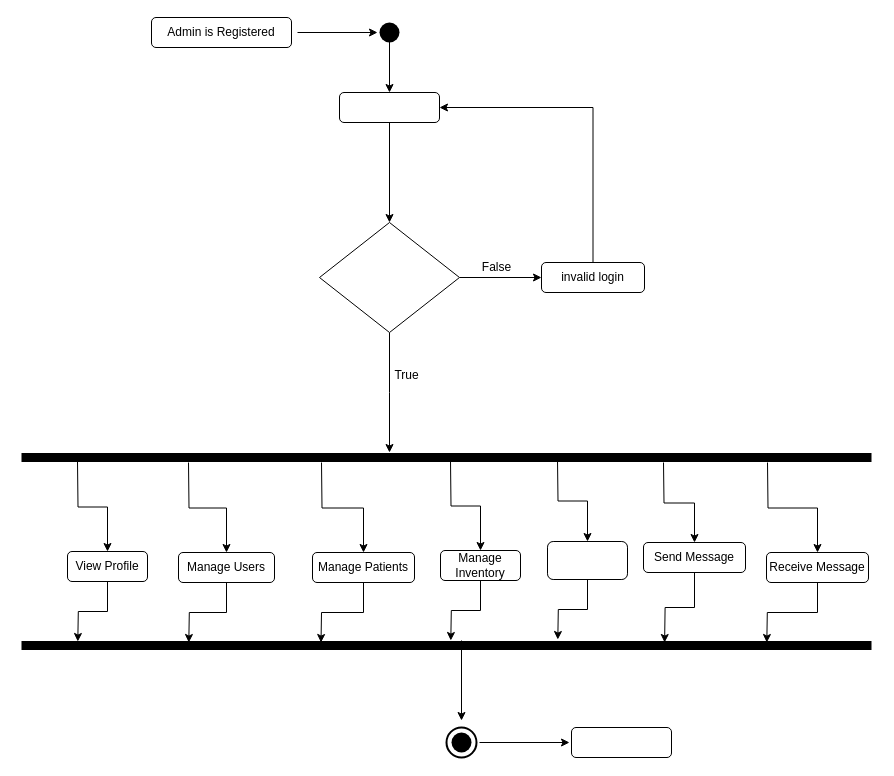
Some shapes in this 894 by 776 pixel diagram are drawn without their labels. The centre of each missing label's shape, as x and y in pixels:
"if user is an admin" goes at [389,277].
"Login" goes at [389,107].
"Logout" goes at [621,742].
"Manage Doctors" goes at [587,560].
